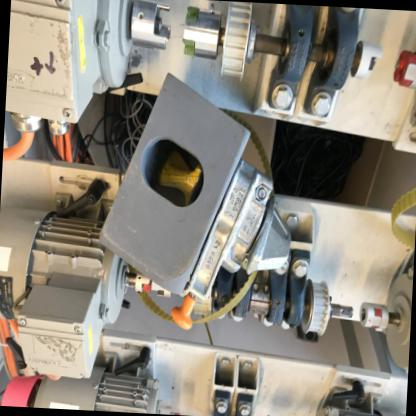CornerCasting: (91, 60, 254, 302)
Twistlock: (172, 151, 297, 345)
